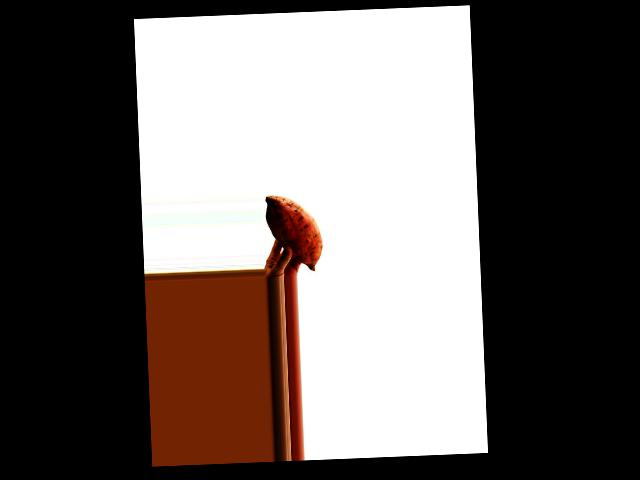sweet_potato: (262, 191, 328, 269)
